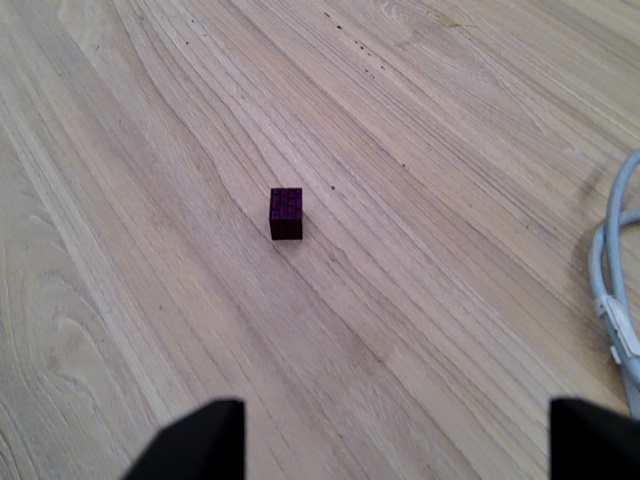brick: (264, 184, 308, 244)
